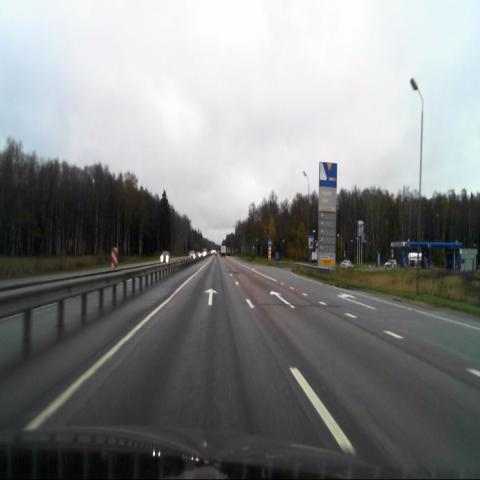7_3: (308, 235, 314, 250)
